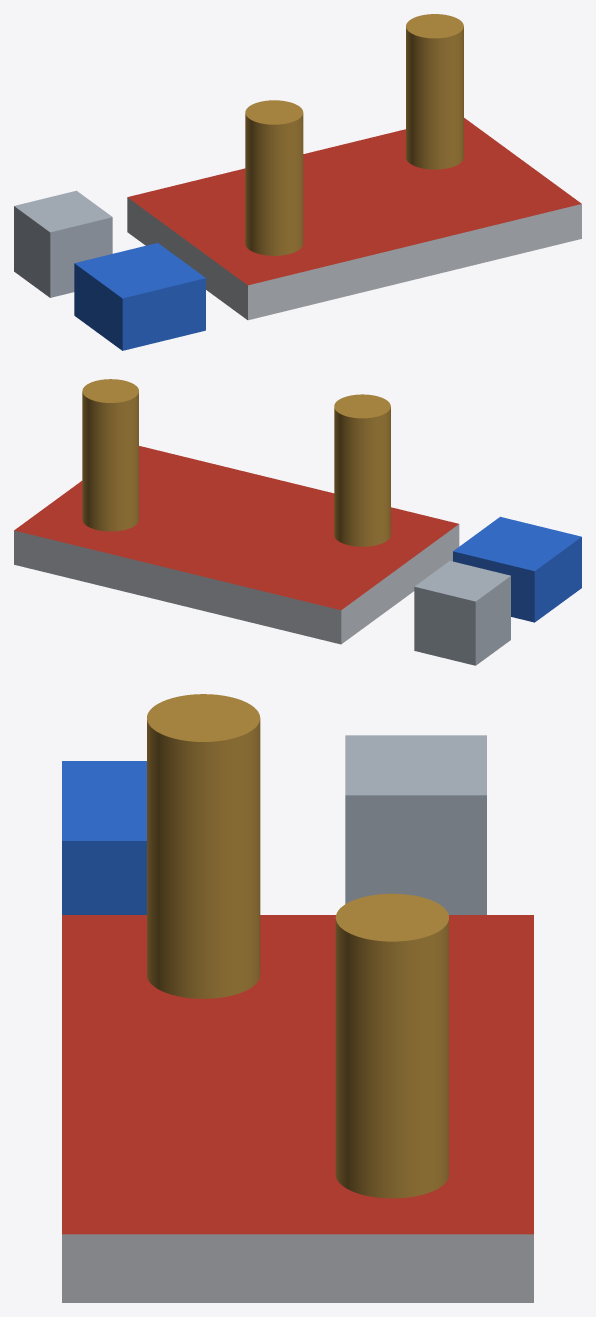
Rendered from demo.glb.
3 views of the same model, one above another, from view 1: azimuth 30°, elevation 25°; view 2: azimuth 150°, elevation 25°; view 3: azimuth 270°, elevation 25° (orthographic). The views are drawn at different scales.
Parts seen in each view (by area): view 1: Plate, Block, Pin, Pin (Post:2), Unpainted; view 2: Plate, Pin, Pin (Post:2), Unpainted, Block; view 3: Plate, Pin (Post:2), Pin, Unpainted, Block.
Boxes of the visible parts, x1=… form: Plate: x1=127, y1=118, x2=581, y2=320; Block: x1=74, y1=243, x2=205, y2=350; Pin: x1=245, y1=100, x2=303, y2=255; Pin (Post:2): x1=406, y1=14, x2=463, y2=169; Unpainted: x1=14, y1=190, x2=112, y2=297; Plate: x1=14, y1=446, x2=459, y2=644; Pin: x1=334, y1=394, x2=390, y2=546; Pin (Post:2): x1=82, y1=379, x2=138, y2=531; Unpainted: x1=414, y1=561, x2=510, y2=665; Block: x1=453, y1=516, x2=581, y2=622; Plate: x1=62, y1=915, x2=533, y2=1302; Pin (Post:2): x1=335, y1=893, x2=448, y2=1198; Pin: x1=147, y1=694, x2=260, y2=998; Unpainted: x1=345, y1=735, x2=486, y2=914; Block: x1=62, y1=761, x2=146, y2=914.
Size of the model in its own units: 0.11 by 0.038 by 0.05.
